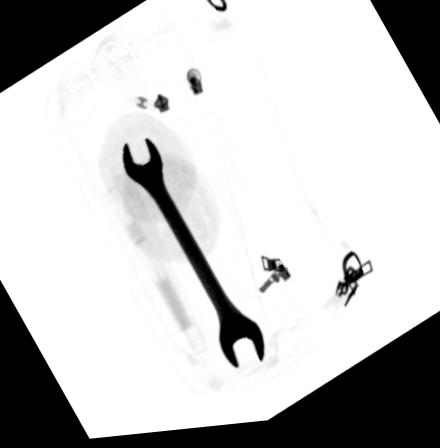Wrench: (122, 134, 266, 374)
